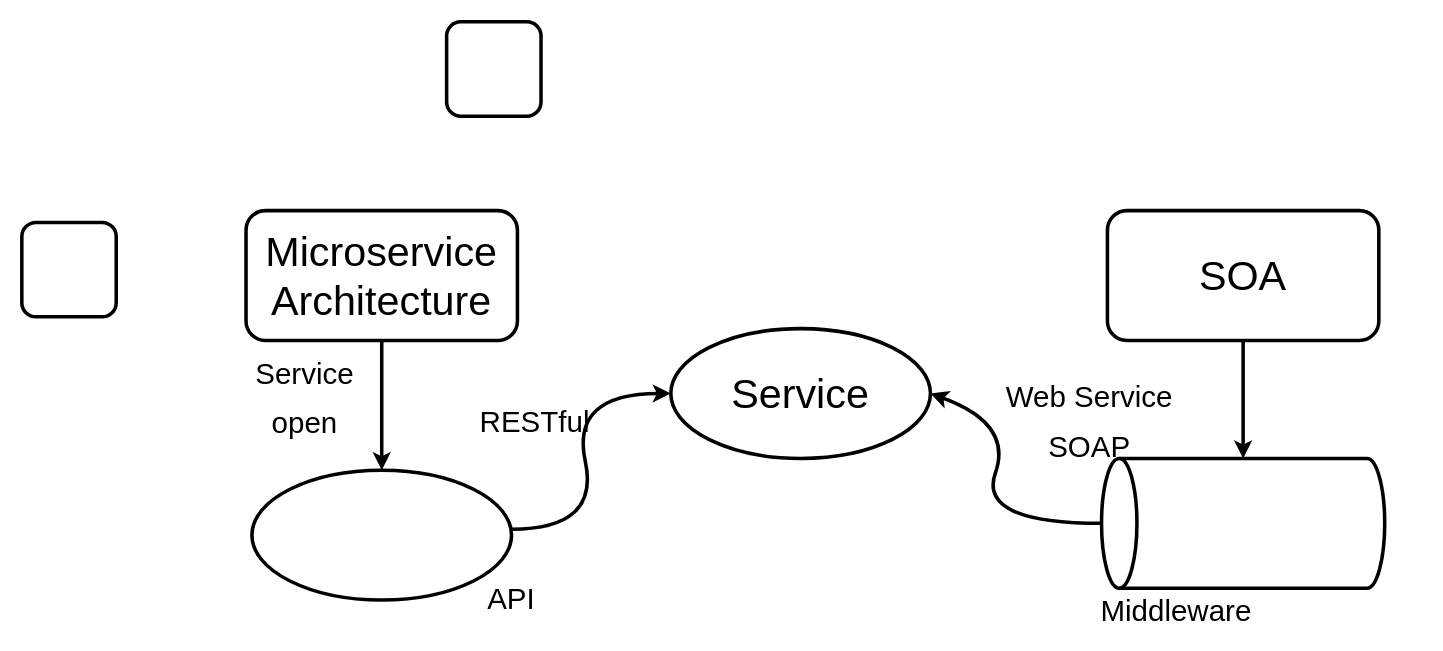
The diagram is 1443 pixels wide and 651 high, and some of its shapes have lost their labels. Each missing label, with the box of its shape:
REST API: (250, 468, 513, 601)
WSDL/UDDI/ESB: (1099, 456, 1386, 589)
